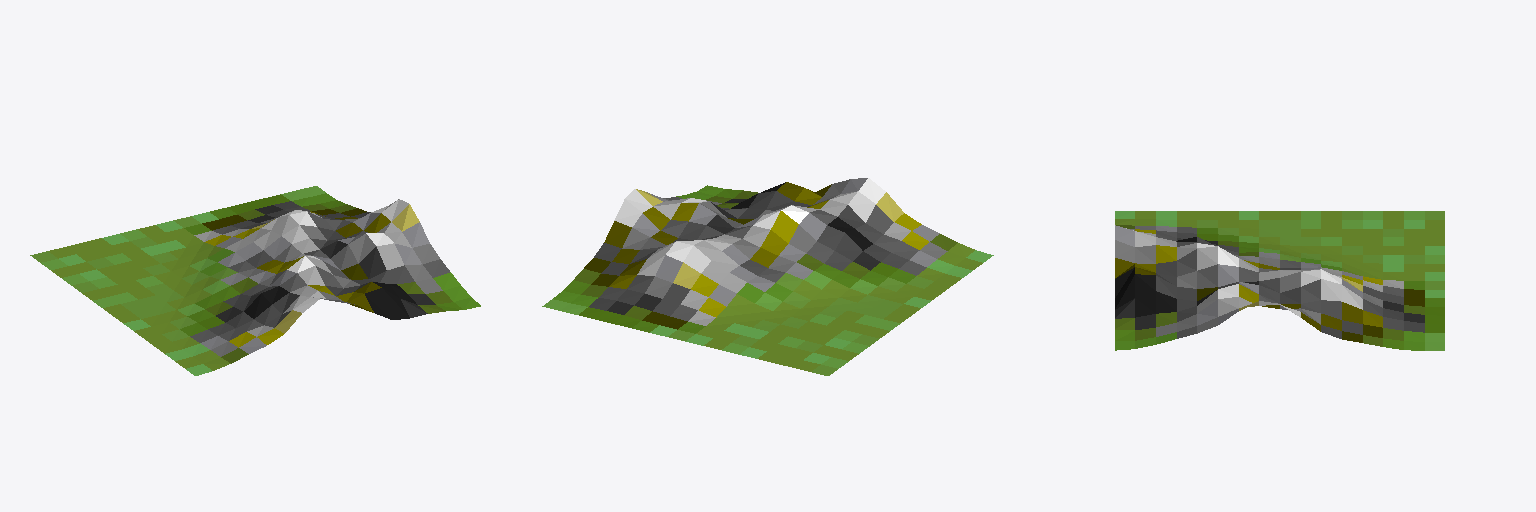
3 views of the same model, side by side, from view 1: azimuth 30°, elevation 25°; view 2: azimuth 150°, elevation 25°; view 3: azimuth 270°, elevation 25° (orthographic).
Parts seen in each view (by area): view 1: mountains6; view 2: mountains6; view 3: mountains6.
Boxes of the visible parts, x1,y1,x2,y2 form: mountains6: [30, 186, 480, 375]; mountains6: [542, 178, 993, 375]; mountains6: [1115, 211, 1444, 350].
Bounding box in the file's own units: 1 × 0.1669 × 1.
Materials: 1 (1 with a texture image).